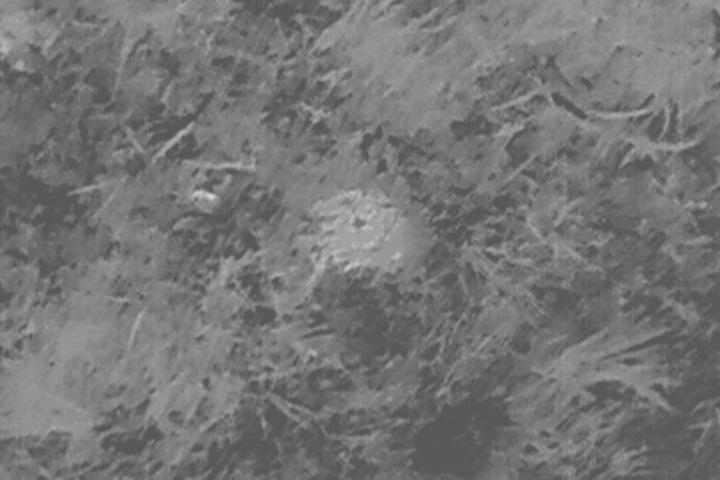landmine: (309, 189, 404, 265)
